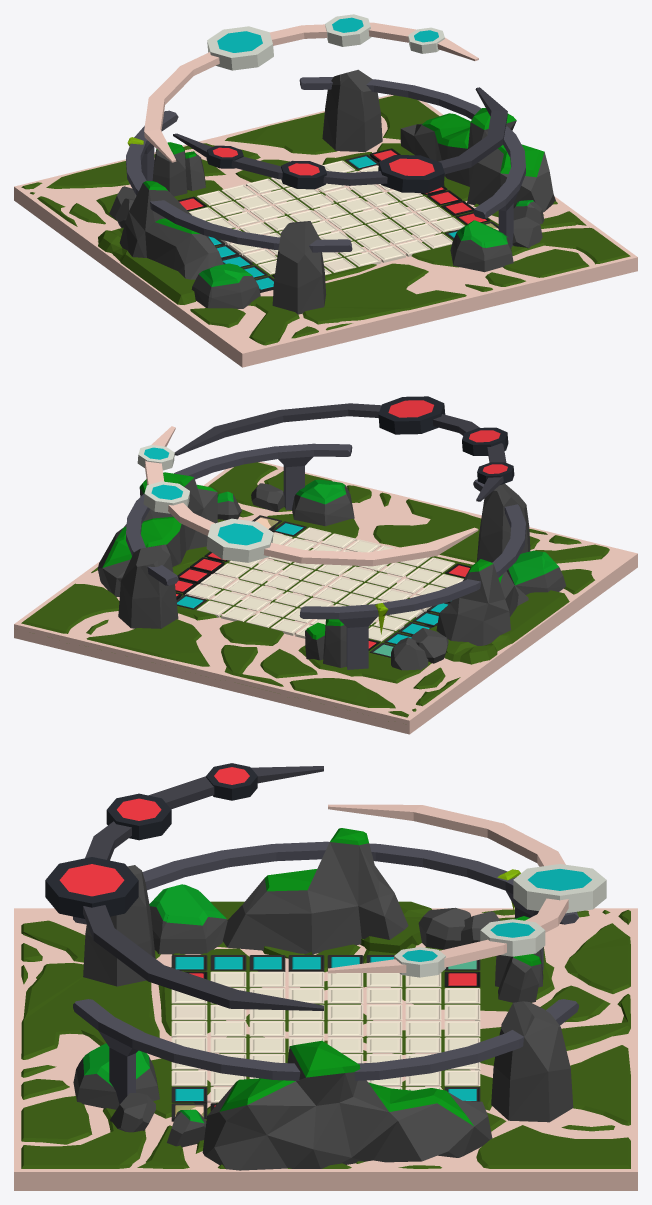
3 renders of one model, top to bottom at view 1: azimuth 30°, elevation 25°; view 2: azimuth 150°, elevation 25°; view 3: azimuth 270°, elevation 25°, orthographic. The views are drawn at different scales.
Parts seen in each view (by area): view 1: Plane.010, Plane.066, Plane.003, Circle.019, Plane.069, Plane.068, Circle.033, Circle.030, Circle.027, Circle.034, Circle.031, Circle.025 (+12 smaller); view 2: Plane.010, Plane.066, Plane.003, Circle.019, Plane.069, Plane.068, Circle.033, Circle.034, Circle.030, Circle.027, Circle.020, Circle.031 (+14 smaller); view 3: Plane.010, Plane.066, Plane.003, Plane.069, Circle.019, Plane.068, Circle.034, Circle.030, Circle.033, Circle.014, Plane.008, Circle.025 (+13 smaller).
Boxes of the visible parts, <box> form: Plane.010: <box>21,95,630,345</box>; Plane.066: <box>14,94,637,367</box>; Plane.003: <box>189,160,464,275</box>; Circle.019: <box>126,77,525,252</box>; Plane.069: <box>400,108,555,212</box>; Plane.068: <box>119,181,223,279</box>; Circle.033: <box>144,22,478,162</box>; Circle.030: <box>322,69,382,151</box>; Circle.027: <box>272,221,326,314</box>; Circle.034: <box>173,87,507,185</box>; Circle.031: <box>450,220,513,272</box>; Circle.025: <box>191,263,260,308</box>; Plane.010: <box>21,462,609,721</box>; Plane.066: <box>14,461,637,734</box>; Plane.003: <box>186,527,463,641</box>; Circle.019: <box>126,443,525,669</box>; Plane.069: <box>97,472,217,596</box>; Plane.068: <box>436,559,528,645</box>; Circle.033: <box>144,426,478,566</box>; Circle.034: <box>174,403,506,501</box>; Circle.030: <box>118,544,178,628</box>; Circle.027: <box>477,483,530,562</box>; Circle.020: <box>206,518,273,562</box>; Circle.031: <box>292,479,354,526</box>; Plane.010: <box>21,901,630,1168</box>; Plane.066: <box>14,908,637,1190</box>; Plane.003: <box>171,971,480,1103</box>; Plane.069: <box>202,1040,492,1170</box>; Circle.019: <box>73,841,578,1104</box>; Plane.068: <box>223,828,408,954</box>; Circle.034: <box>83,766,323,1010</box>; Circle.030: <box>491,1001,573,1122</box>; Circle.033: <box>328,804,568,973</box>; Circle.014: <box>45,857,138,918</box>; Plane.008: <box>171,955,480,1103</box>; Circle.025: <box>149,884,227,954</box>.
Size of what is drawn, in the model's own units: 32 by 11.04 by 32.
Materials: 3 (1 with a texture image).
